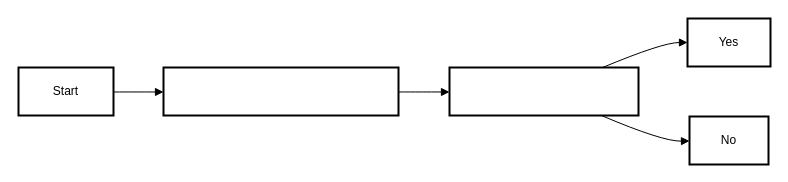
The diagram is 788 pixels wide and 182 high, and some of its shapes have lost their labels. Here are the shapes that lost their labels. From the top down, the centre of each, then its label:
point (280, 91): Initialize_memory_array
point (543, 91): Is_base_case_met
